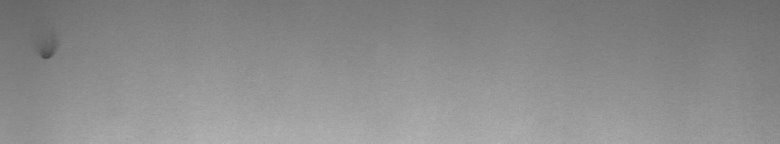fi: (39, 46, 57, 67)
